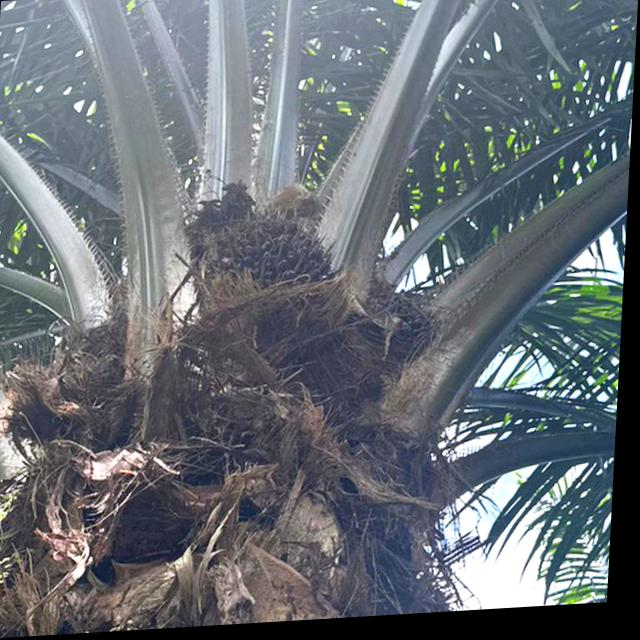almost: (187, 201, 349, 349)
